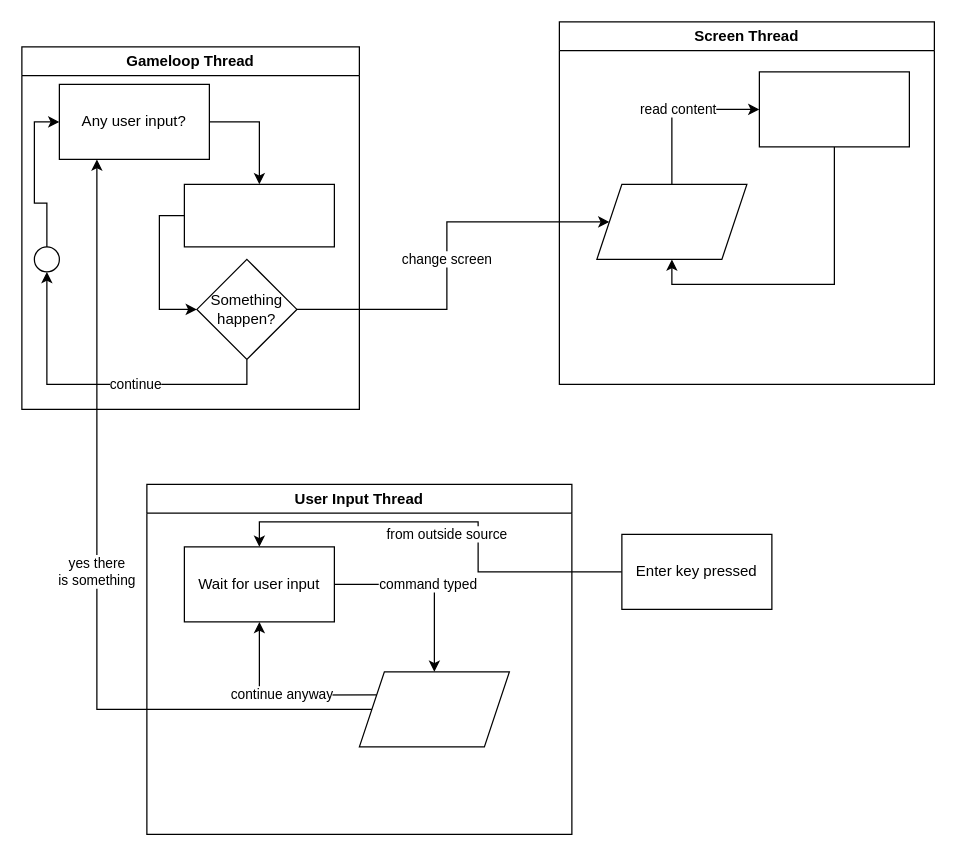
Some shapes in this 956 by 856 pixel diagram are drawn without their labels. Each missing label, with the centre of its shape:
"Compute world state" belongs at pixel 258 215.
"Lines Variable" belongs at pixel 671 221.
"Put lines on screen" belongs at pixel 833 109.
"store in variable" belongs at pixel 433 709.
